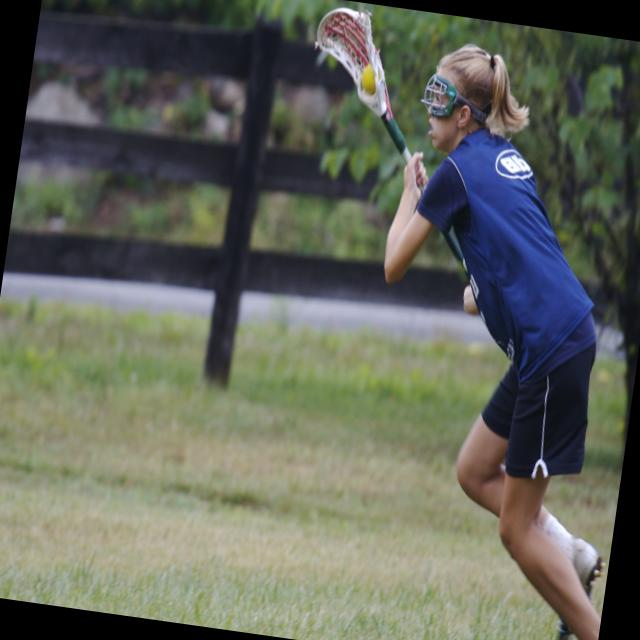Ball: (359, 62, 380, 96)
